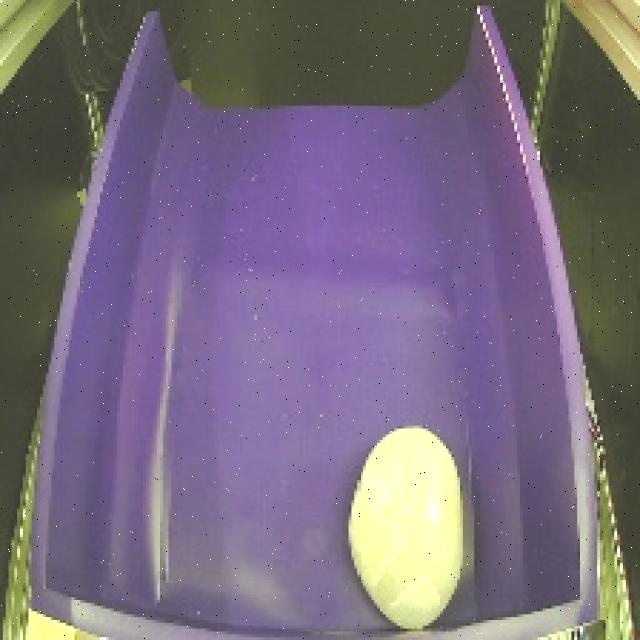cobbles: (339, 417, 475, 637)
